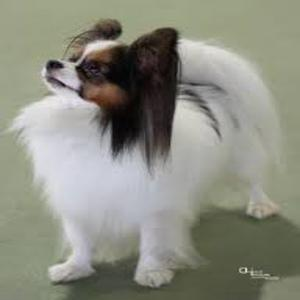yell: (17, 18, 281, 288)
